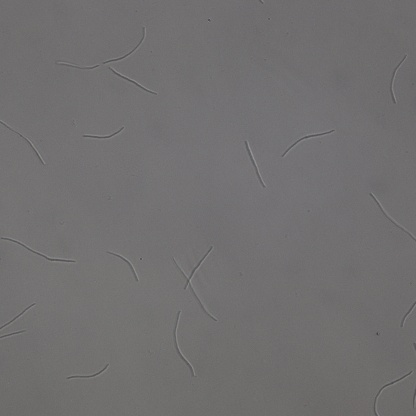Sensitive: (174, 245, 216, 320), (370, 194, 416, 243), (1, 120, 45, 164), (1, 238, 75, 263), (372, 370, 411, 416), (104, 28, 143, 66), (283, 127, 334, 156), (171, 311, 193, 374), (111, 69, 156, 94), (1, 303, 36, 330), (107, 251, 138, 280), (246, 141, 265, 187), (389, 56, 406, 103), (67, 363, 109, 381), (83, 125, 124, 142)
